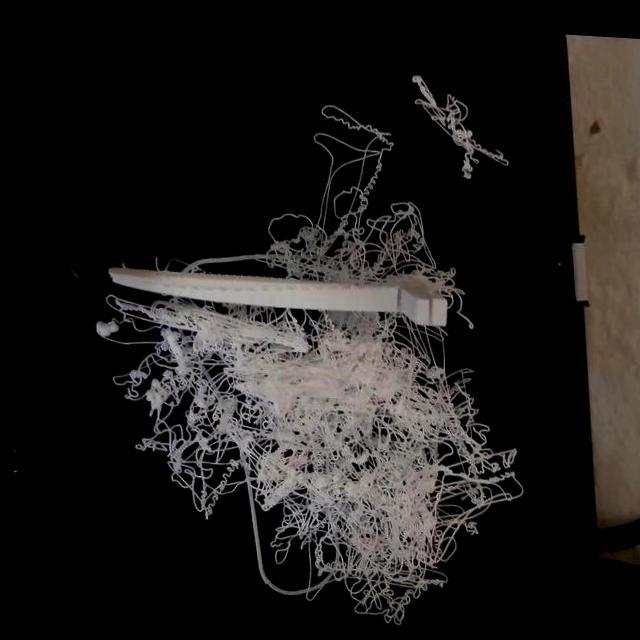spaghetti: (270, 350, 456, 508), (171, 349, 263, 473), (327, 498, 441, 597), (300, 192, 412, 273), (444, 394, 503, 509), (419, 83, 493, 166), (265, 473, 328, 565), (120, 346, 176, 405)
